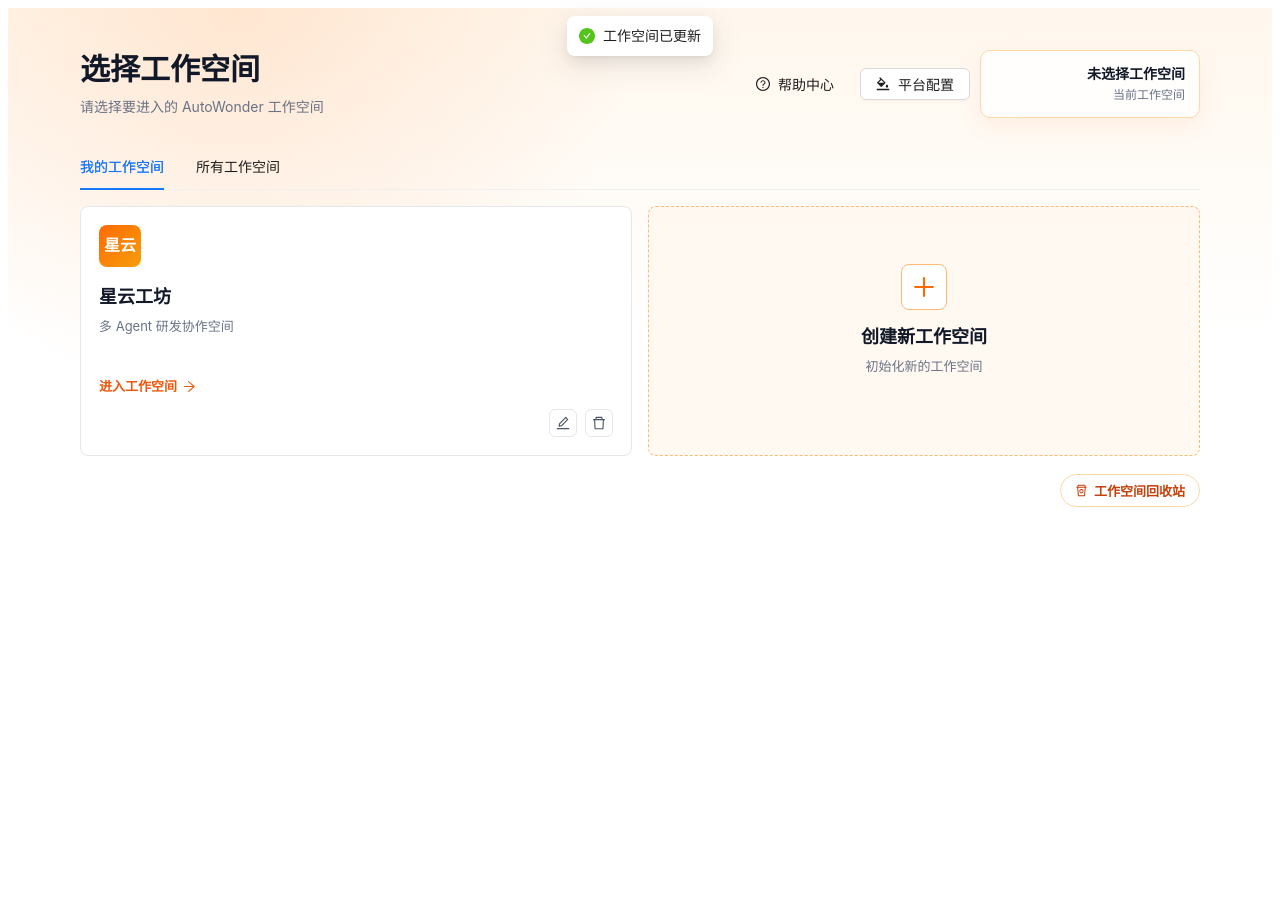
WorkspaceSelectPage › opens the delete dialog from the card and states all three consequences
What coordinates should you click on to do the following:
click the button with test id "delete-workspace-1"
I would click on:
 (599, 423)
Its box is [585,409,613,437].
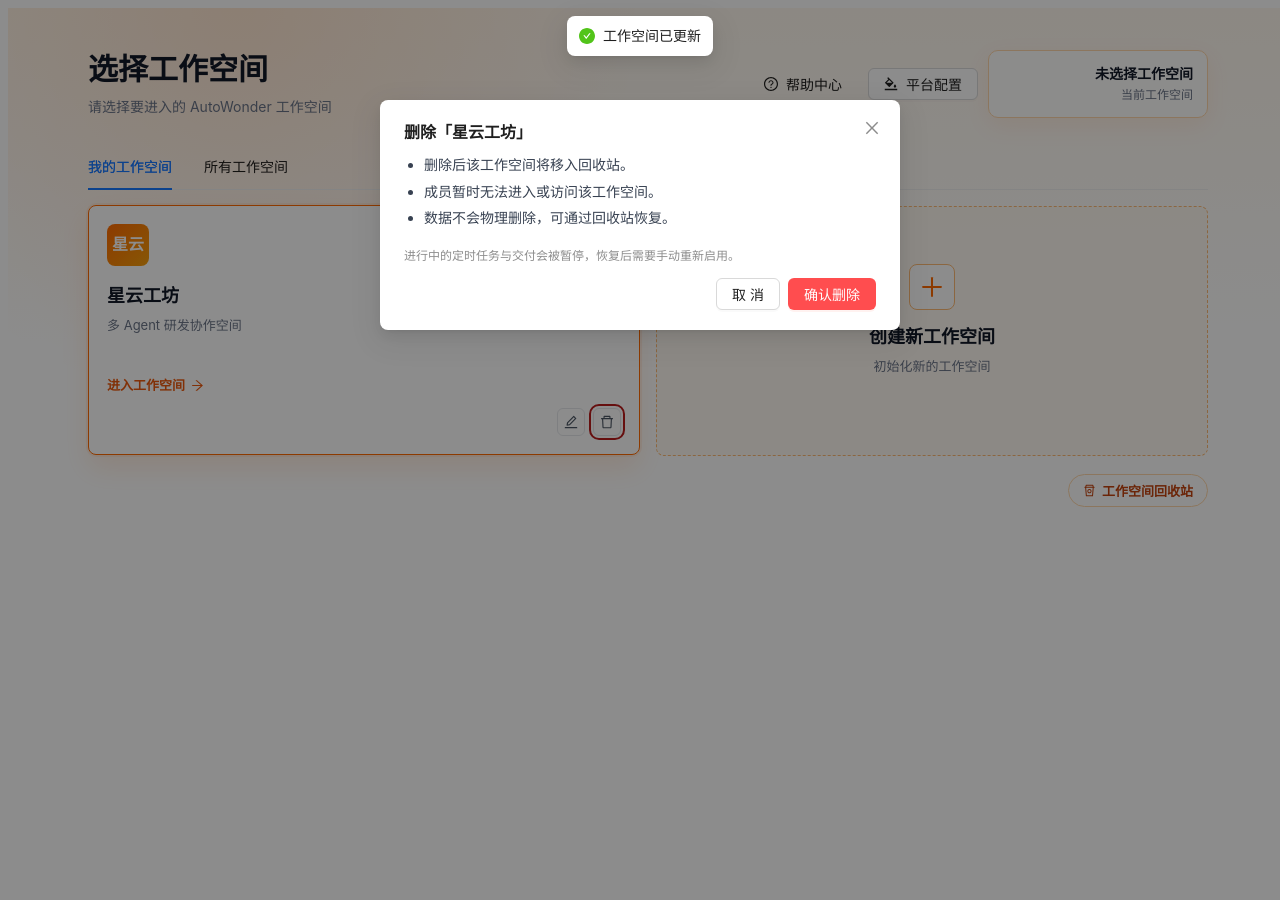
Expected: the text "删除「星云工坊」" is shown, [404,122,532,142]
Expected: the list items read "删除后该工作空间将移入回收站。", "成员暂时无法进入或访问该工作空间。", "数据不会物理删除，可通过回收站恢复。", in this order, [424,156,634,173]; [424,183,662,200]; [424,209,676,226]
